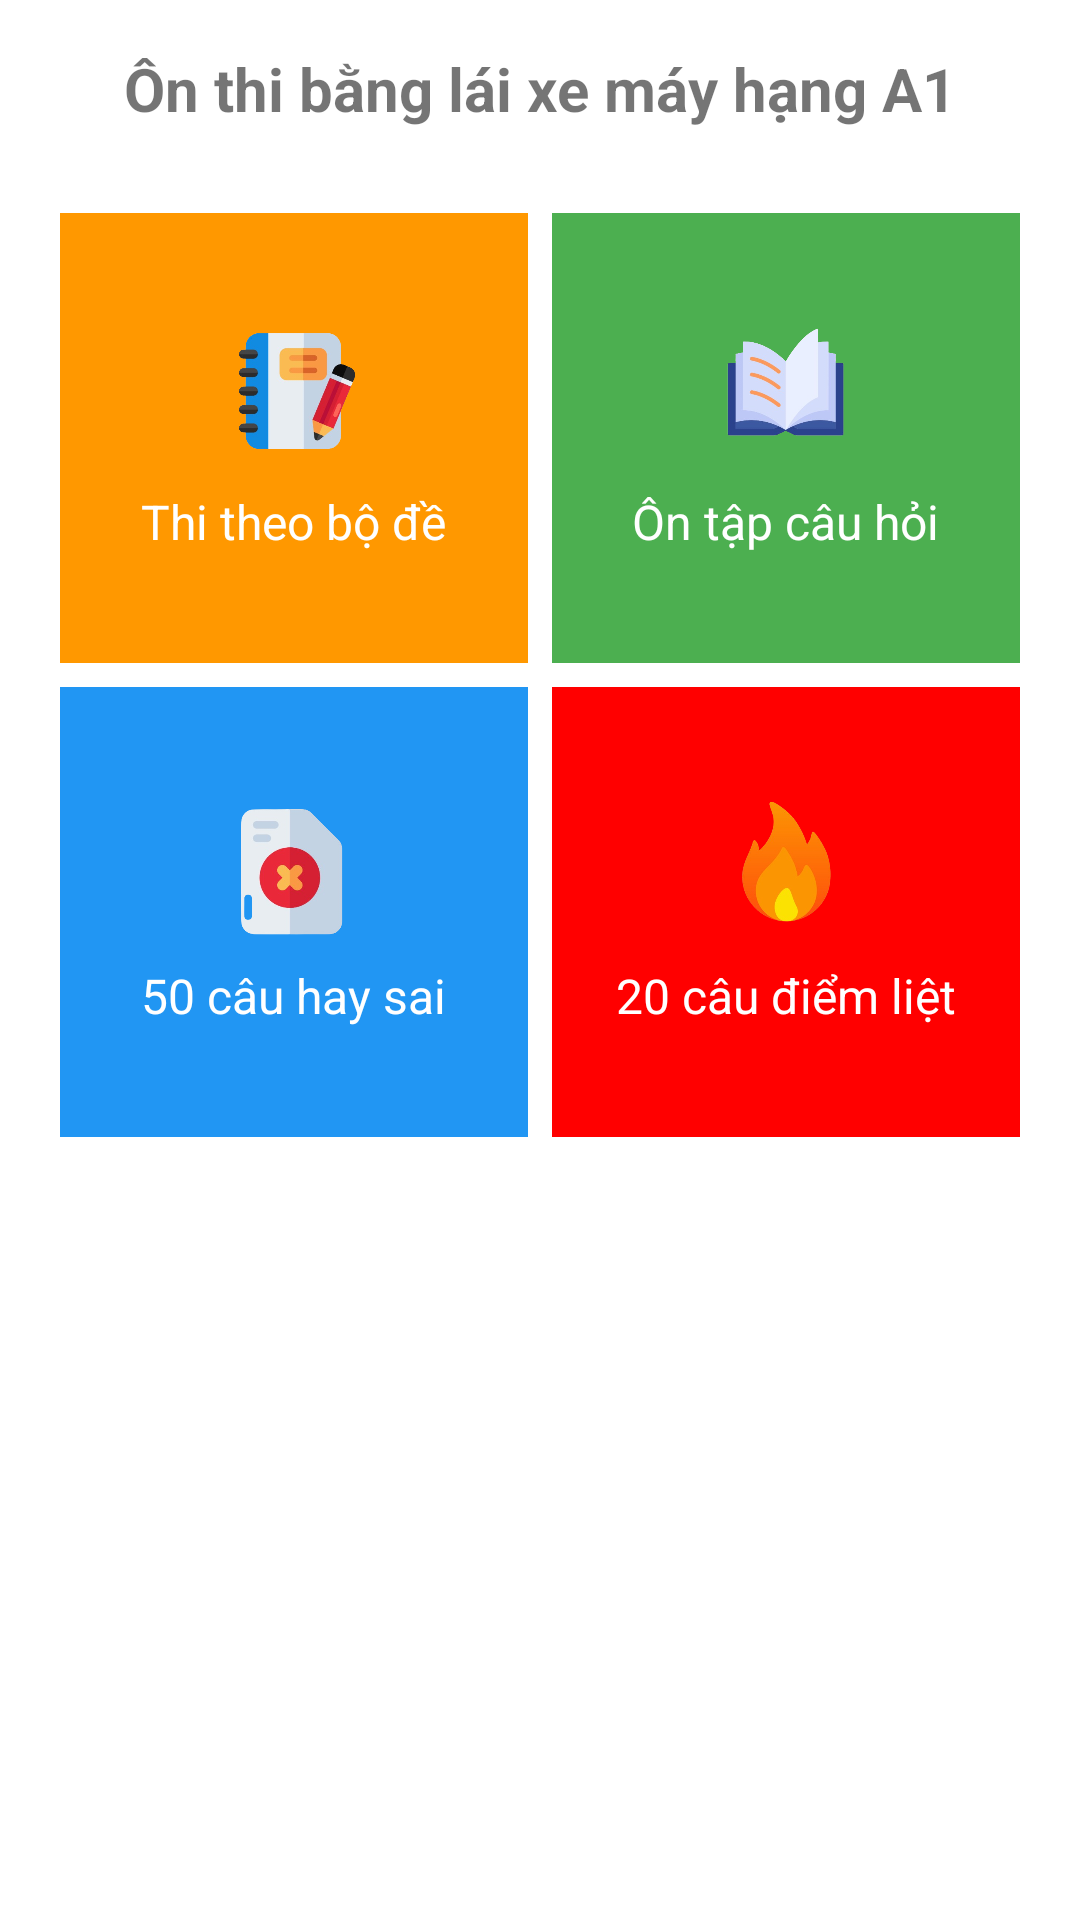

Icon click points for this 1080×1920 phone screenshot, format [x,y]:
critical: [786,862]
exam: [297,391]
review: [785,382]
wrong: [291,872]
